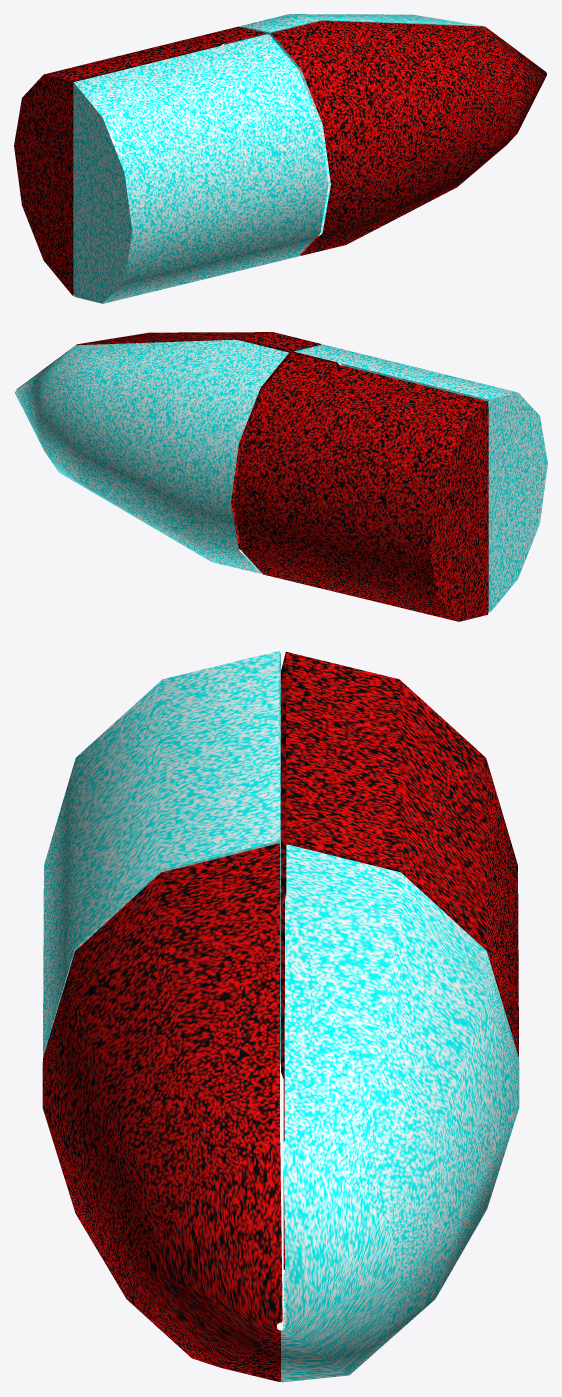
Rendered from SM_Shot_01_LGS.fbx.
3 views of the same model, one above another, from view 1: azimuth 30°, elevation 25°; view 2: azimuth 150°, elevation 25°; view 3: azimuth 270°, elevation 25° (orthographic). The views are drawn at different scales.
Parts seen in each view (by area): view 1: SM_Shot_01_LGS; view 2: SM_Shot_01_LGS; view 3: SM_Shot_01_LGS.
Boxes of the visible parts, box(x1,y1,x2,y2) form: SM_Shot_01_LGS: box(14, 14, 546, 303); SM_Shot_01_LGS: box(15, 332, 547, 621); SM_Shot_01_LGS: box(42, 651, 519, 1382).
Size of the model in its own units: 40.15 by 17.41 by 17.46.
